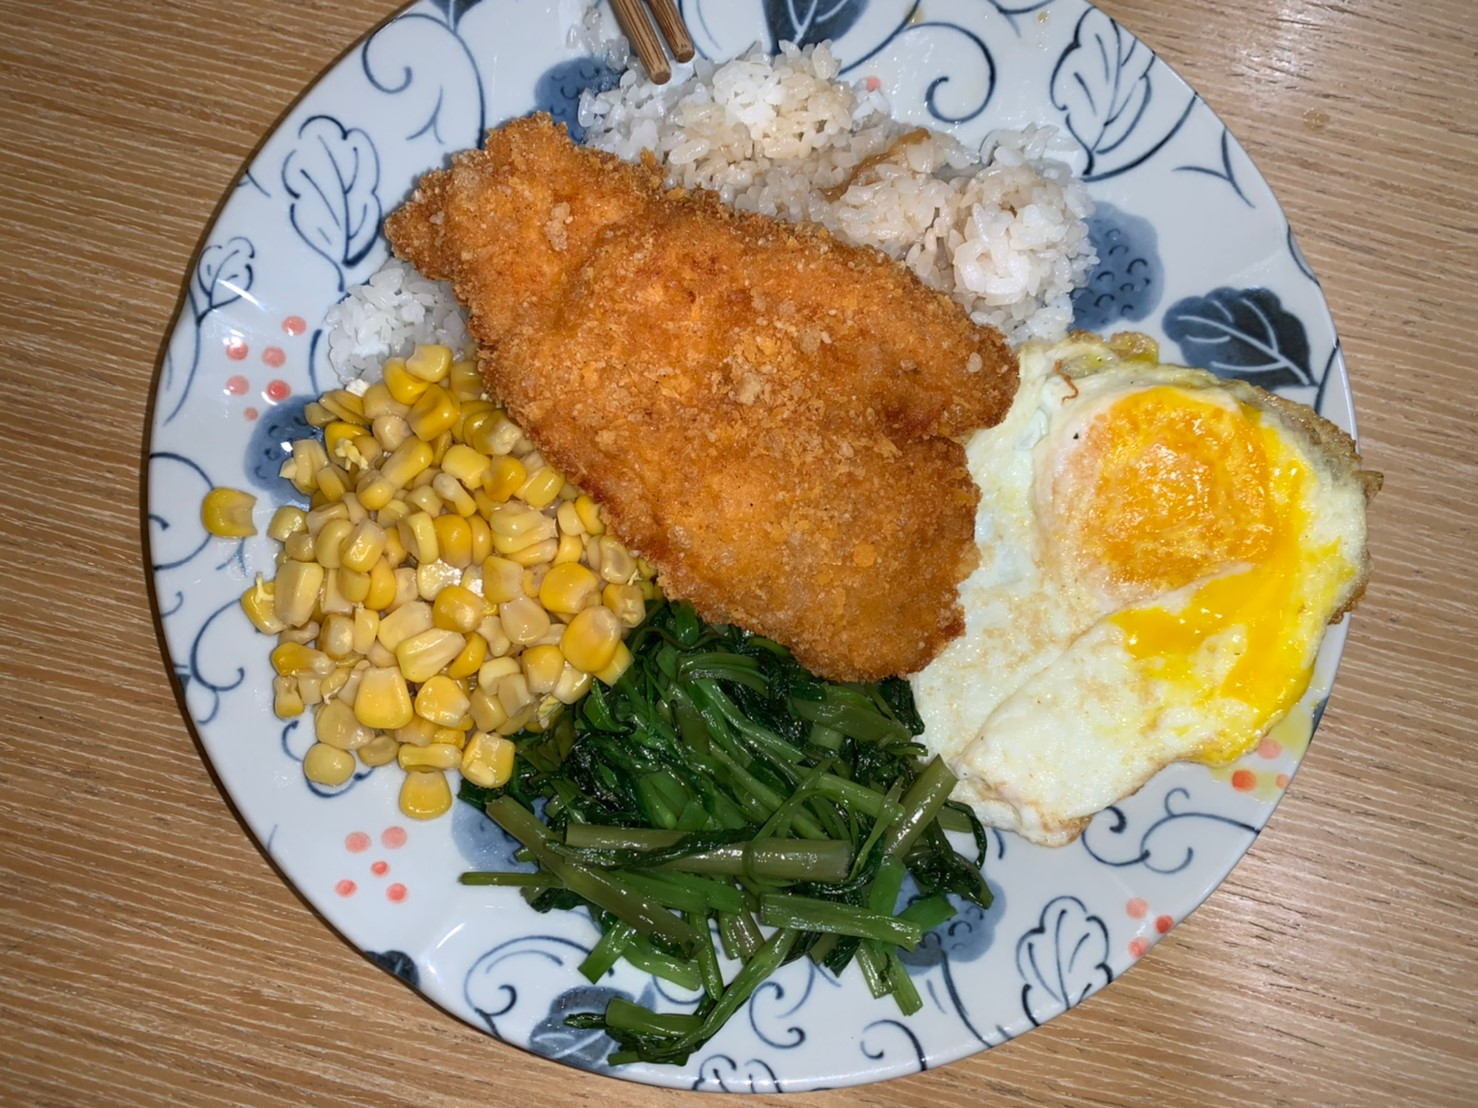fried_chicken: (421, 115, 994, 674)
fried_eggs: (900, 319, 1376, 841)
rice: (607, 73, 1100, 287)
water_spinach: (532, 672, 933, 963)
